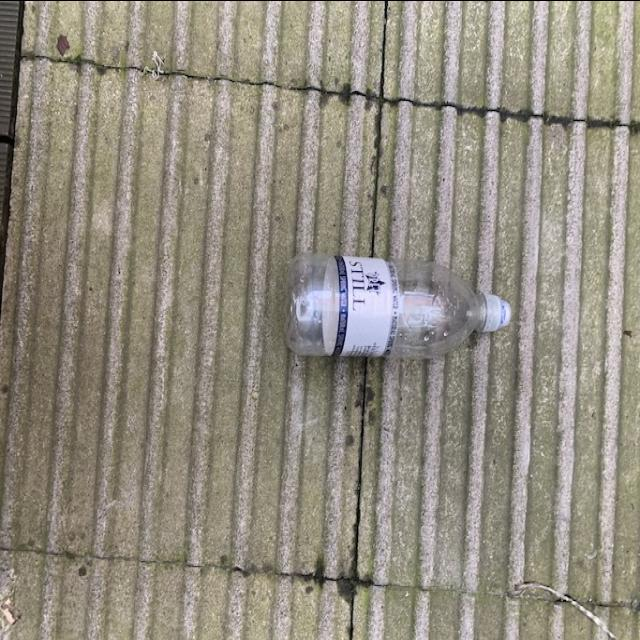PET: (283, 250, 513, 364)
